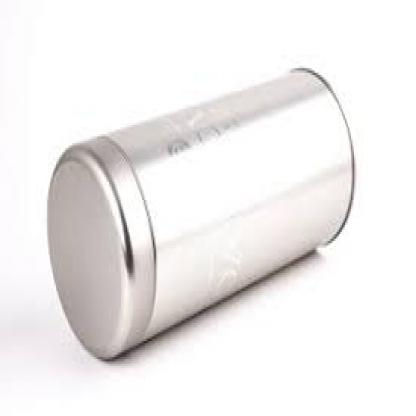METAL: (46, 66, 352, 359)
